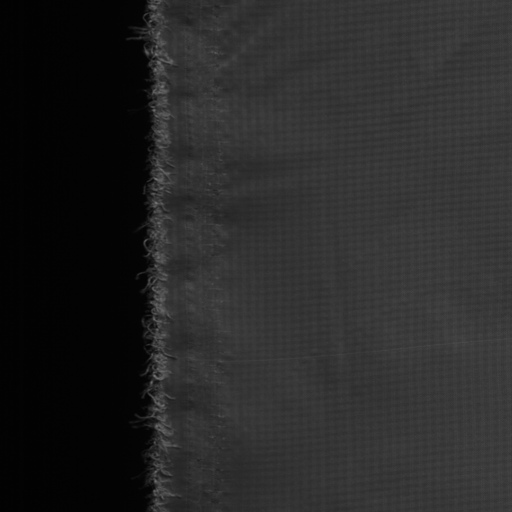defect: (182, 339, 512, 366)
